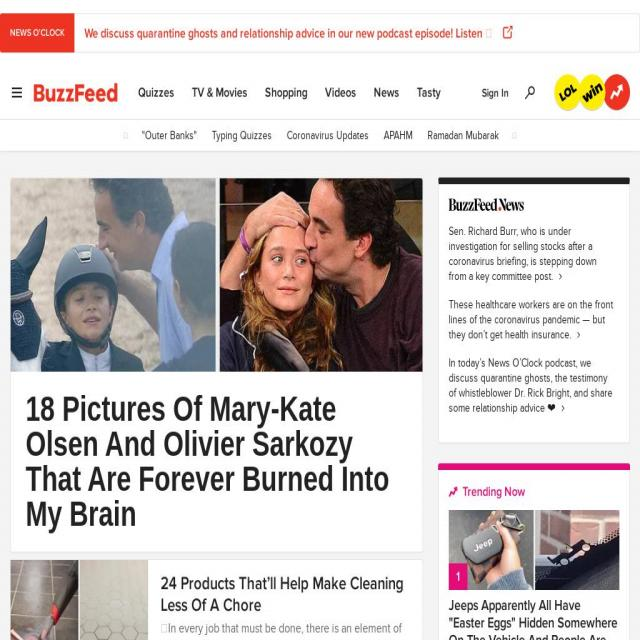login-option: (475, 82, 514, 105)
options: (138, 82, 512, 143), (8, 82, 24, 105)
search: (518, 83, 544, 107)
